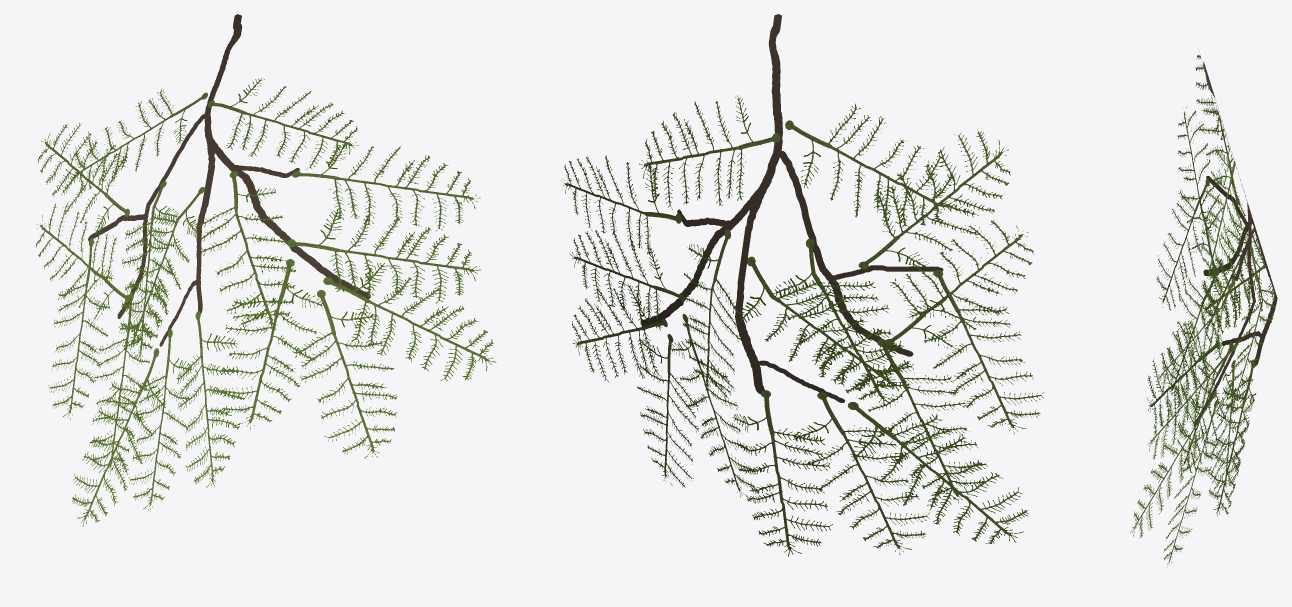
The model's file is LeafMesh13.fbx.
3 renders of one model, left to right at view 1: azimuth 30°, elevation 25°; view 2: azimuth 150°, elevation 25°; view 3: azimuth 270°, elevation 25°, orthographic. The views are drawn at different scales.
Visible parts, largest first — view 1: LeafMesh1; view 2: LeafMesh1; view 3: LeafMesh1.
Part boxes in pixels (x1,y1,x2,y2): LeafMesh1: [36, 14, 496, 526]; LeafMesh1: [561, 14, 1043, 556]; LeafMesh1: [1130, 55, 1277, 564].
Size of the model in its own units: 2 by 2.07 by 0.6195.
